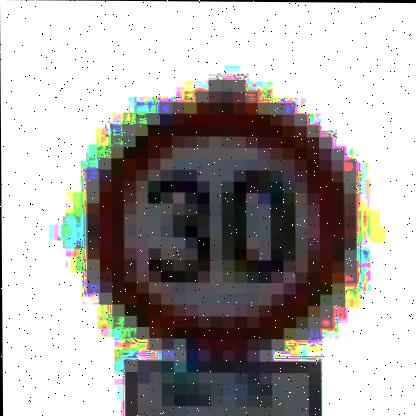Speed Limit -30-: (86, 82, 366, 344)
